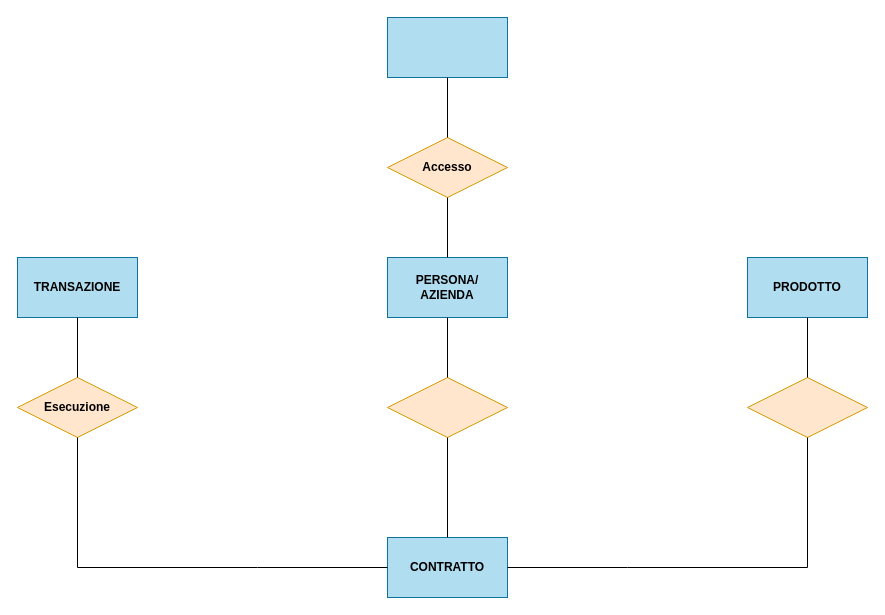
Some shapes in this 885 by 615 pixel diagram are drawn without their labels. The centre of each missing label's shape, as x and y in pixels:
"Elencazione" goes at (x=807, y=407).
"PIATTAFORMA ONLINE" goes at (x=447, y=47).
"Stipulazione" goes at (x=447, y=407).
